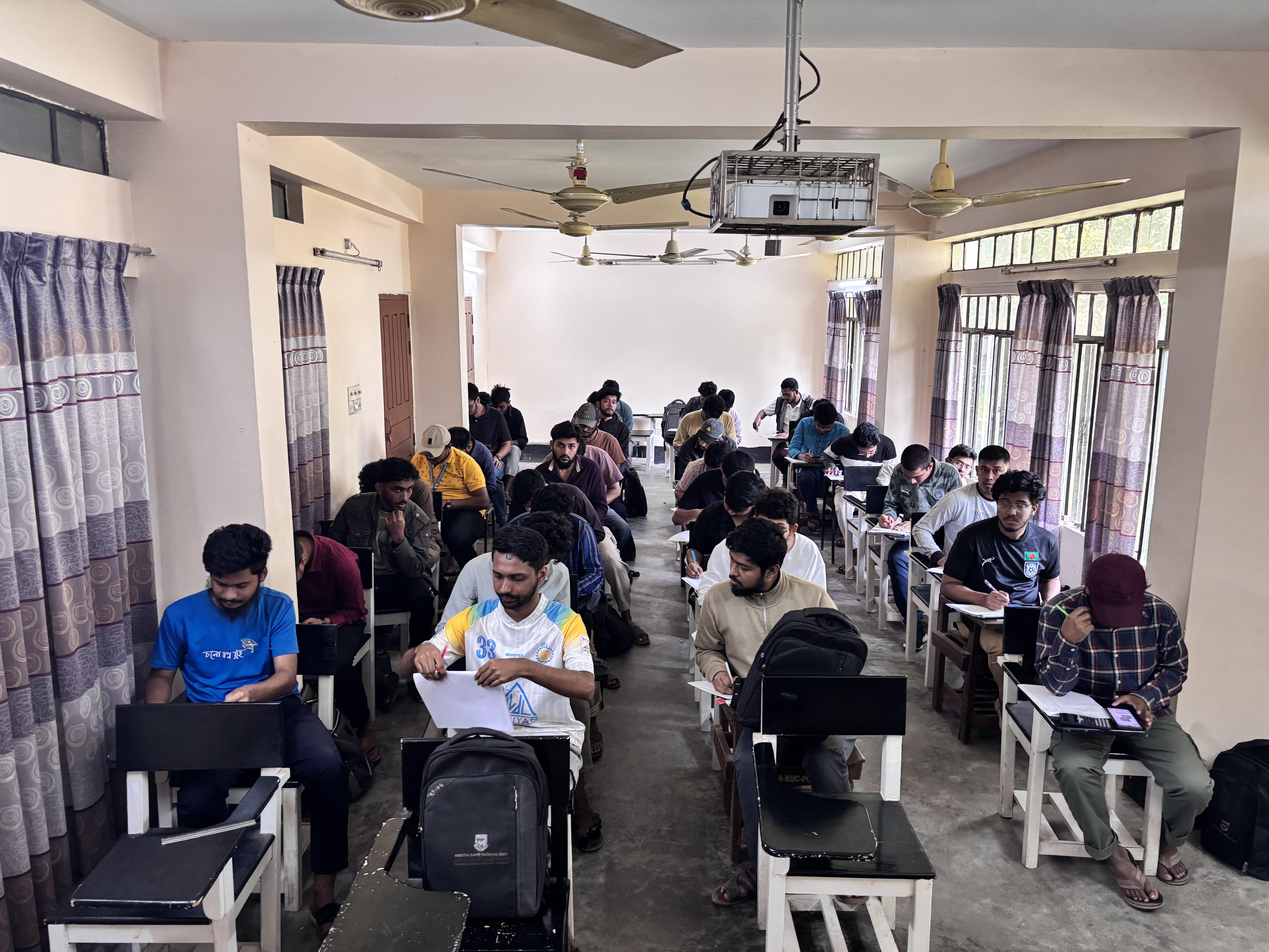copying: (700, 520, 807, 706)
hidden_communication: (940, 438, 977, 481), (691, 416, 726, 459)
no_cheating: (416, 524, 584, 749), (143, 517, 298, 708), (956, 470, 1065, 624), (881, 445, 952, 543), (412, 421, 474, 501), (832, 419, 894, 494), (795, 396, 846, 475), (711, 470, 763, 542), (762, 376, 805, 441), (966, 446, 1006, 507), (544, 420, 583, 475), (462, 381, 492, 431), (570, 400, 601, 447), (592, 387, 624, 427), (696, 395, 724, 432)
side_talking: (348, 458, 431, 576)
using_phone: (1038, 544, 1180, 764)
